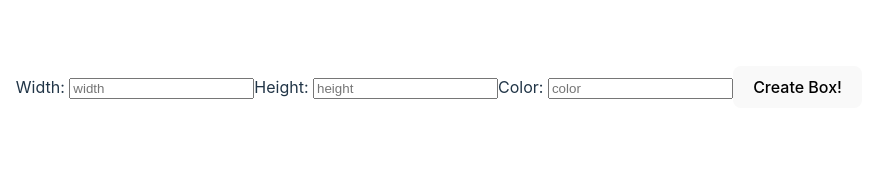
Scenario: BoxList › should add a box
Type "peachpuff" into the field labelled "Color:" at (640, 88), box x1=548 y1=78 x2=733 y2=99
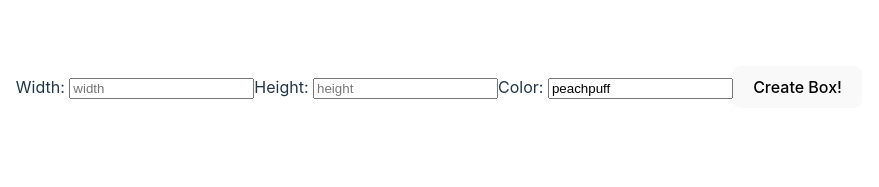
Type "100" into the field labelled "Width:" at (162, 88), box x1=69 y1=78 x2=254 y2=99
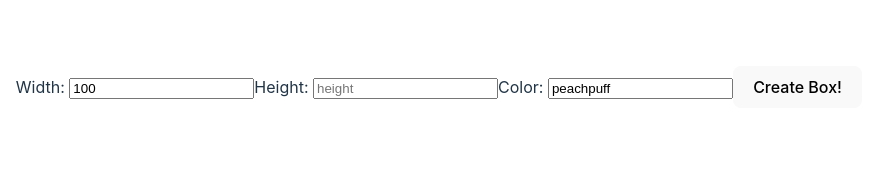
Type "100" into the field labelled "Height:" at (406, 88), box x1=313 y1=78 x2=498 y2=99
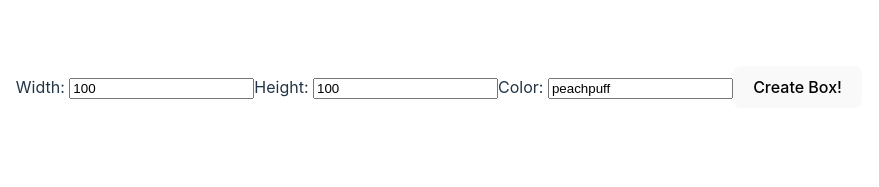
Click the button "Create Box!" at (798, 87), box x1=733 y1=66 x2=862 y2=108
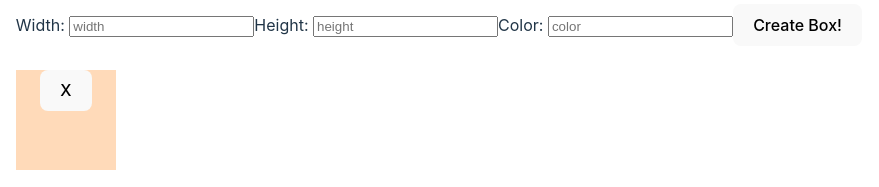
Expected: the number of fields is 3, x1=69 y1=16 x2=254 y2=37; x1=313 y1=16 x2=498 y2=37; x1=548 y1=16 x2=733 y2=37
Now the button "X" is shown, box x1=40 y1=70 x2=92 y2=111
